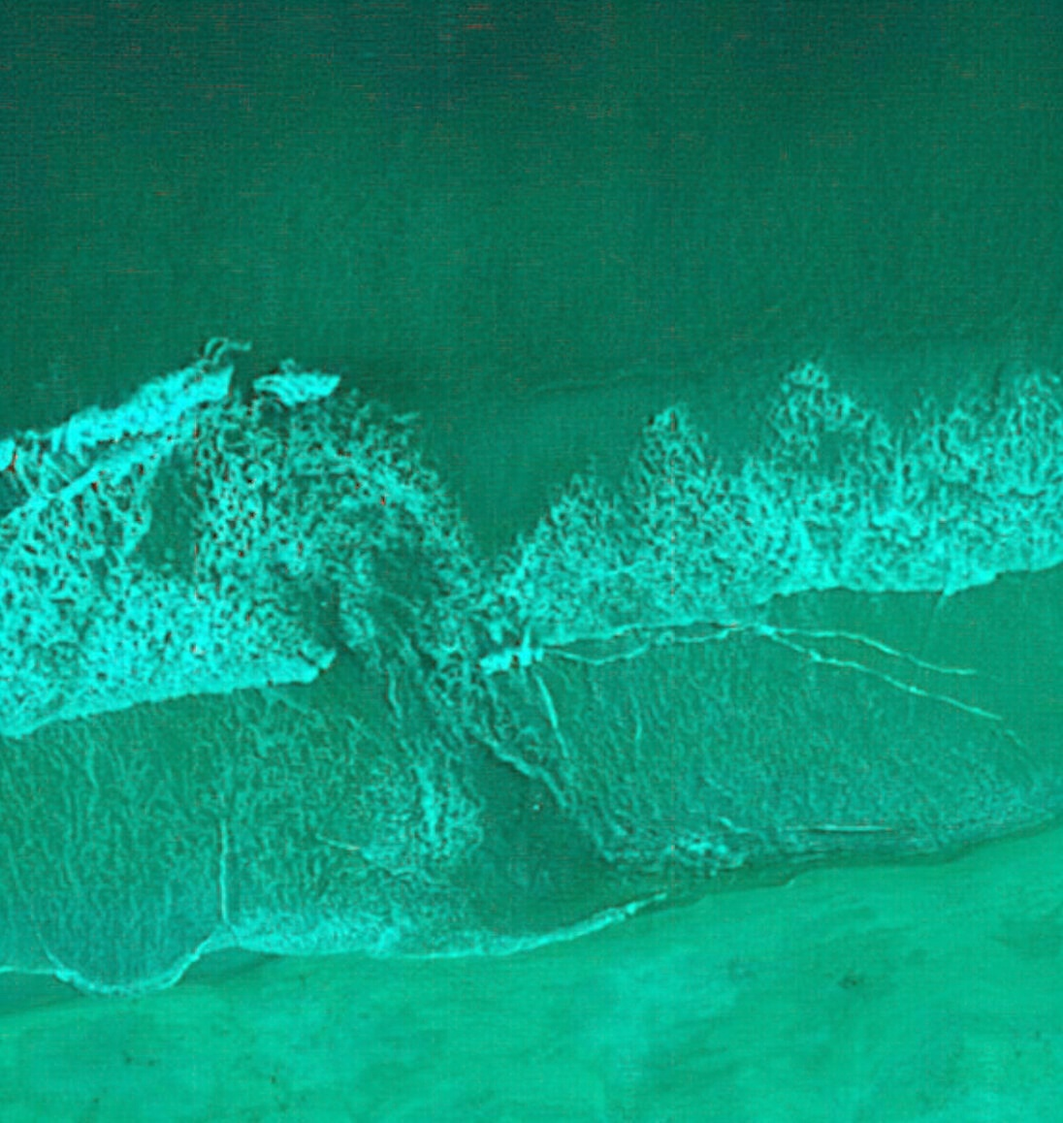rip_current: (150, 324, 635, 847)
